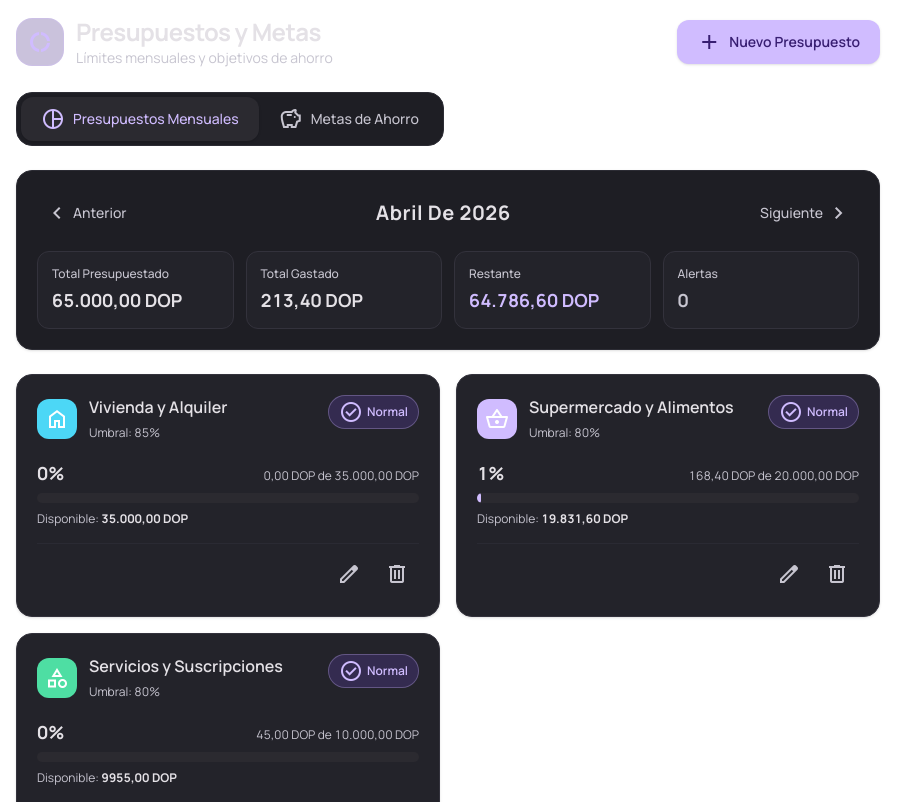
BudgetsPage Integration › renders budgets list and switches to goals tab
Expected: the heading "Presupuestos y Metas" is shown, [76, 16, 333, 48]
Expected: the text "Total Presupuestado" is shown, [52, 265, 169, 282]
Click the tab "Metas de Ahorro" at (349, 119), box [259, 97, 439, 141]
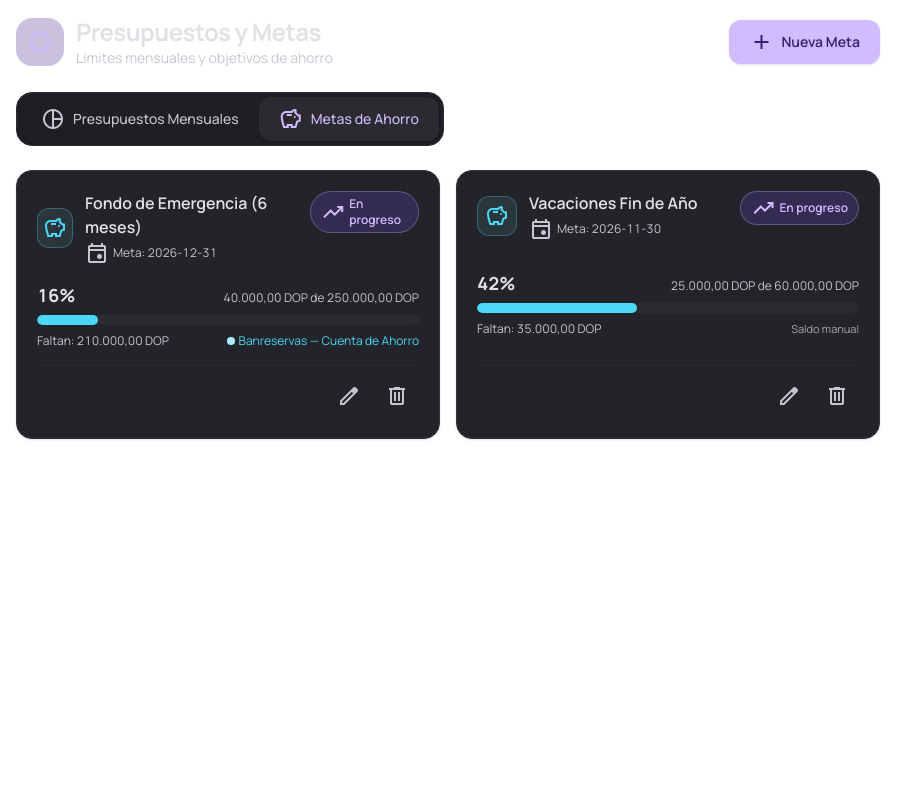
Result: the heading "Fondo de Emergencia (6 meses)" is shown at [85, 192, 268, 238]
